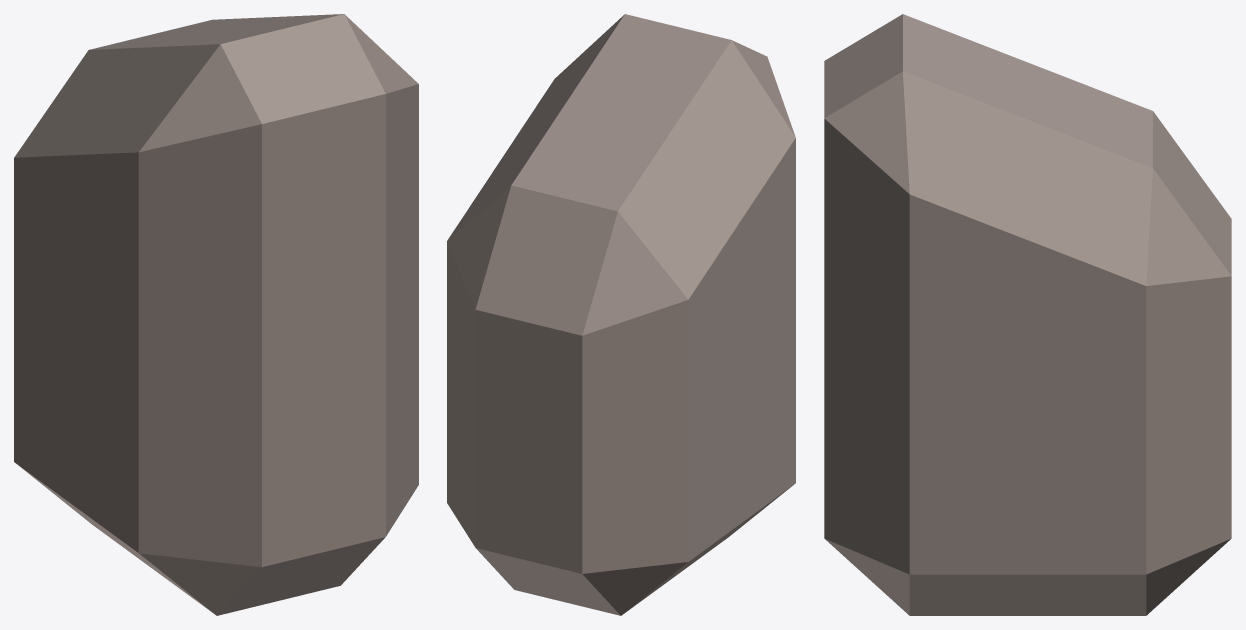
The model's file is Rock_02.fbx.
3 renders of one model, left to right at view 1: azimuth 30°, elevation 25°; view 2: azimuth 150°, elevation 25°; view 3: azimuth 270°, elevation 25°, orthographic. The views are drawn at different scales.
Parts seen in each view (by area): view 1: Rock_02; view 2: Rock_02; view 3: Rock_02.
Boxes of the visible parts, x1=… form: Rock_02: x1=14, y1=14, x2=418, y2=615; Rock_02: x1=447, y1=14, x2=795, y2=615; Rock_02: x1=824, y1=14, x2=1231, y2=615.
Size of the model in its own units: 19.67 by 38.56 by 26.15.
